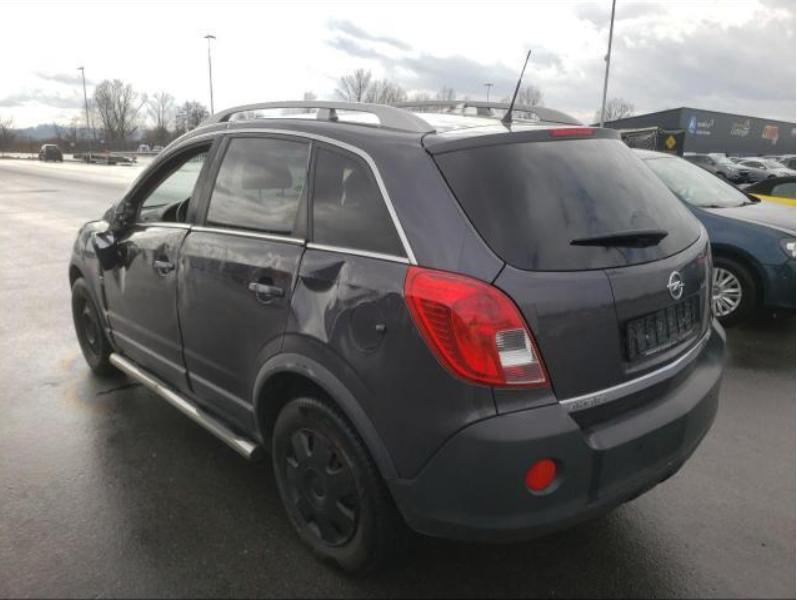Back-bumper: (389, 316, 728, 542)
Back-door: (178, 131, 313, 443)
Back-wheel: (271, 397, 399, 576)
Back-window: (305, 139, 409, 263), (205, 137, 309, 236)
Back-windshield: (433, 138, 700, 273)
Fender: (68, 220, 117, 355)
Front-door: (100, 131, 224, 400)
Front-wheel: (71, 277, 115, 377)
Front-window: (130, 144, 214, 224)
License-plate: (626, 296, 700, 360)
Mirror: (109, 203, 133, 239)
Quarter-panel: (281, 249, 558, 480)
Rocker-panel: (109, 352, 264, 462)
Roof: (152, 100, 589, 161)
Tail-light: (404, 265, 550, 388)
Trunk: (494, 219, 716, 412), (420, 124, 624, 155)
